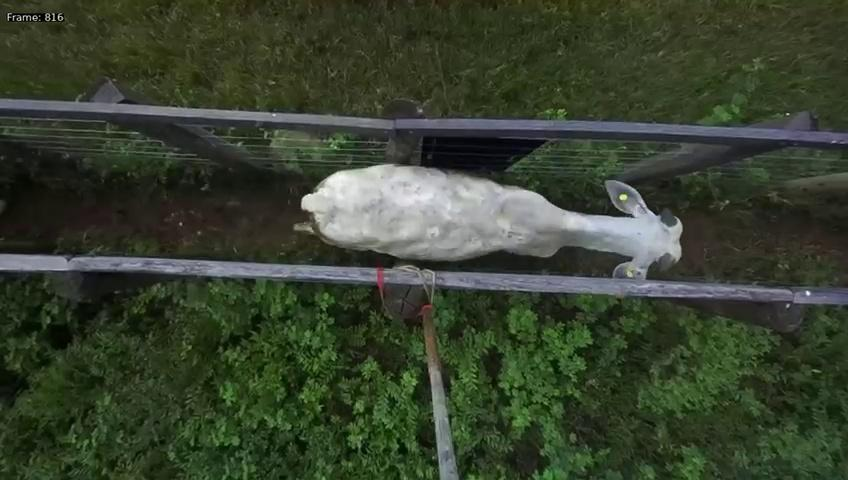cattle: (292, 126, 685, 279)
